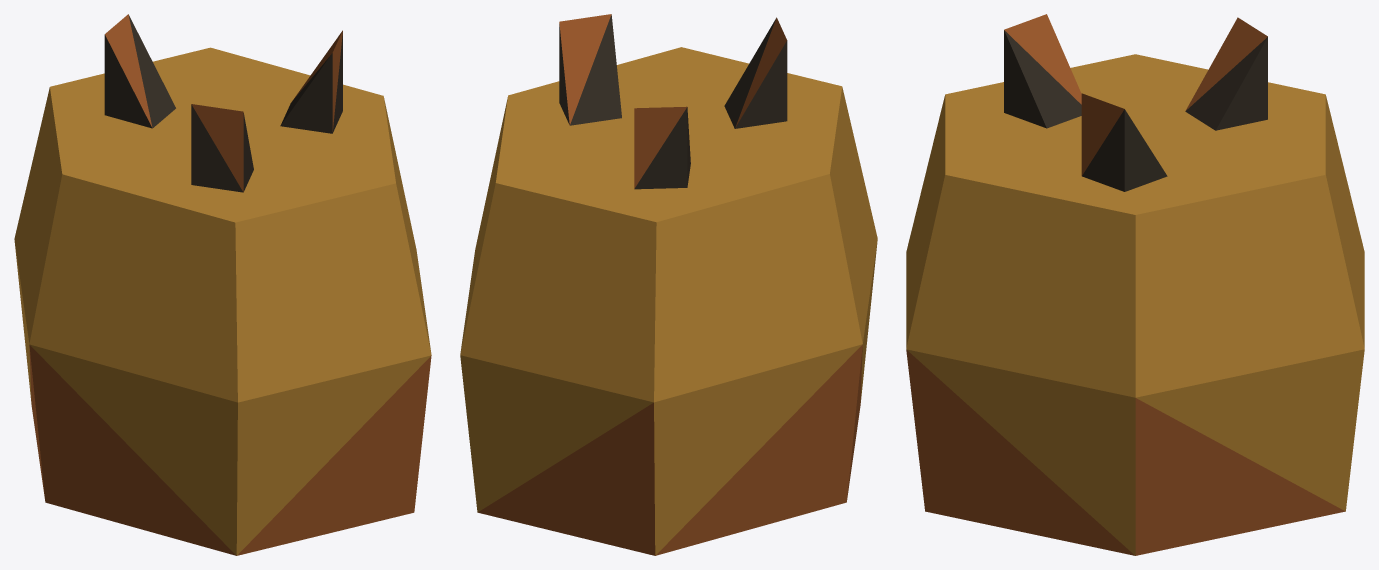
The model's file is cookie.glb.
The picture shows the model from 3 angles, left to right: view 1: azimuth 30°, elevation 25°; view 2: azimuth 150°, elevation 25°; view 3: azimuth 270°, elevation 25°; orthographic projection. The views are drawn at different scales.
Size of the model in its own units: 1 by 1 by 1.
